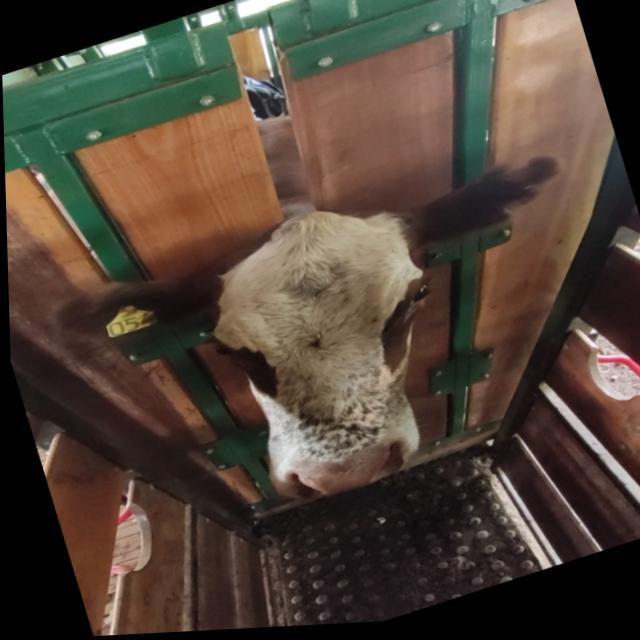cowFace: (181, 183, 480, 525)
